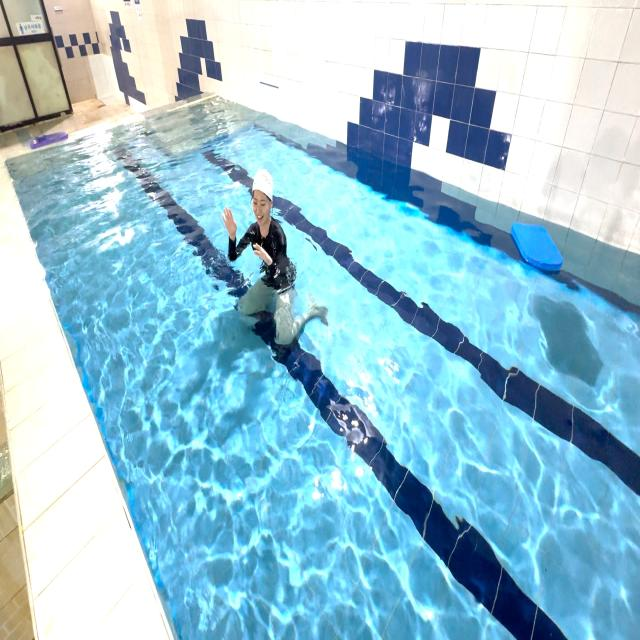Swimming: (220, 165, 331, 348)
